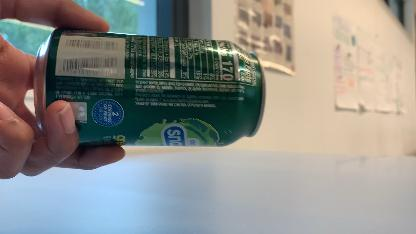Can: (34, 29, 266, 147)
